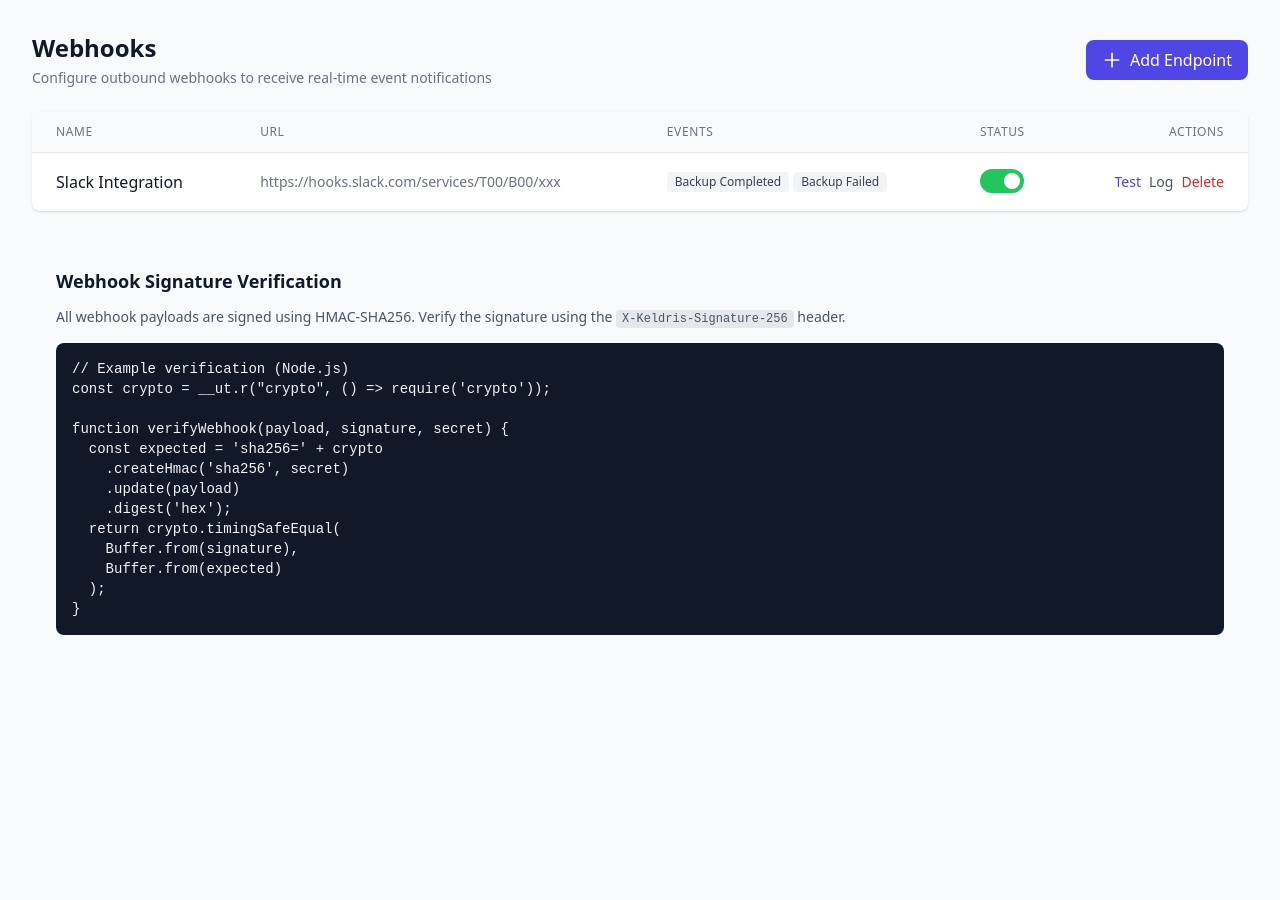
Webhooks › shows loading state in delivery log modal
Click the button "Log" at (1161, 182), box top-left (1149, 172), bottom-right (1173, 192)
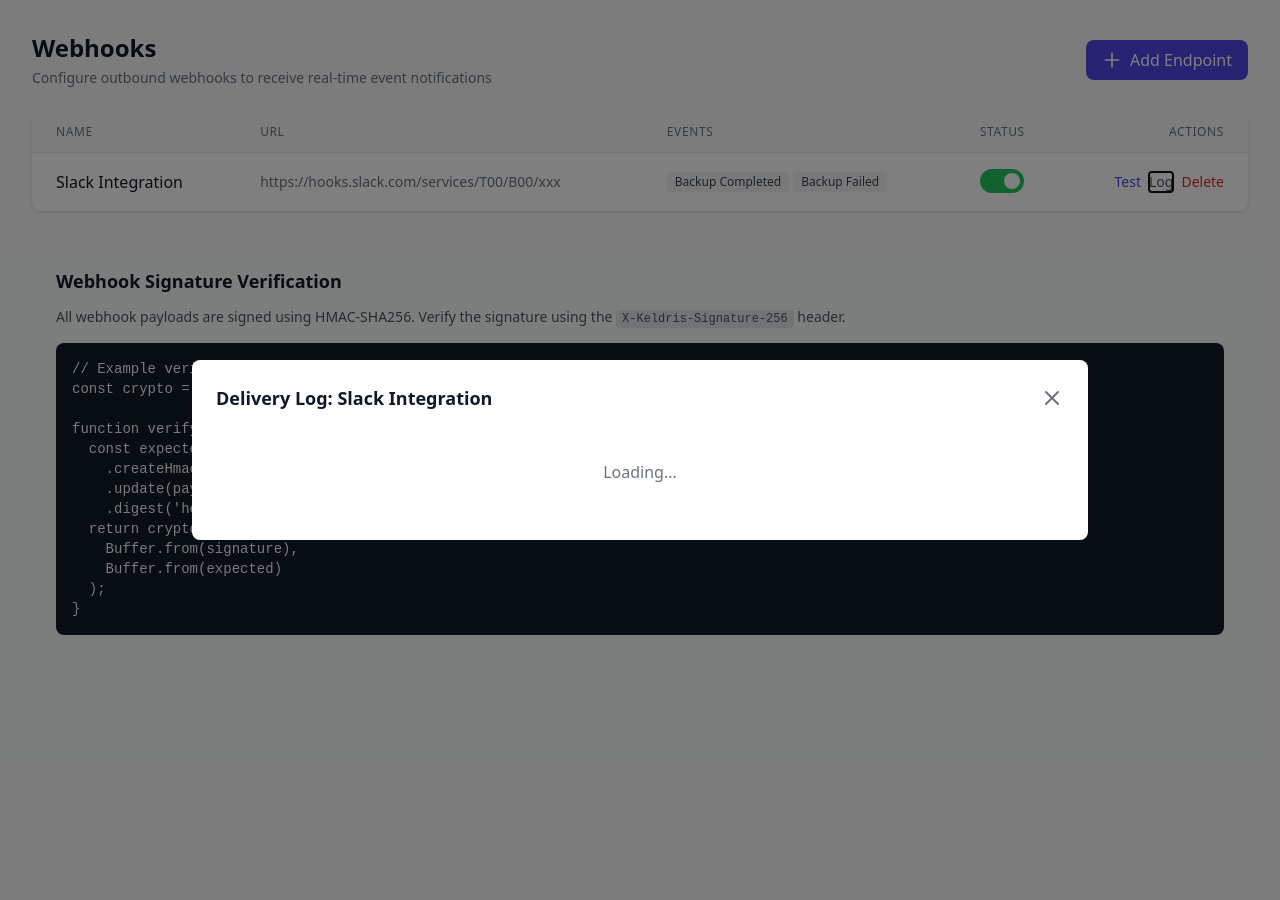
Now the text "Loading..." is shown, box top-left (603, 461), bottom-right (677, 483)
